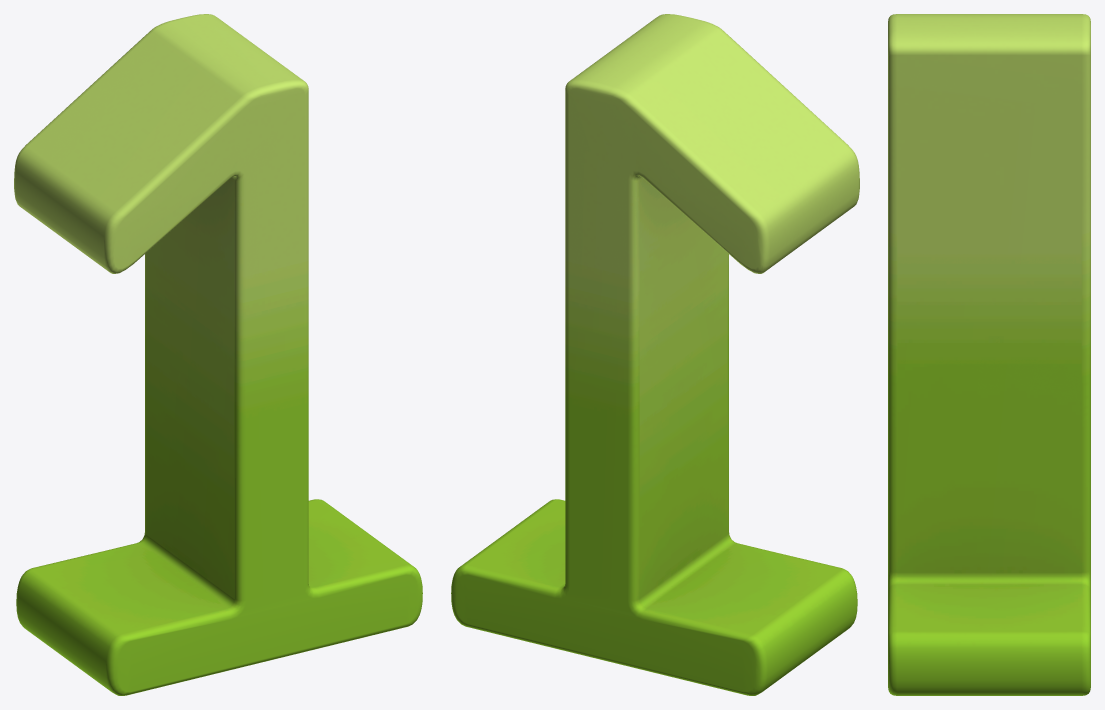
3 views of the same model, side by side, from view 1: azimuth 30°, elevation 25°; view 2: azimuth 150°, elevation 25°; view 3: azimuth 270°, elevation 25° (orthographic). The views are drawn at different scales.
Visible parts, largest first — view 1: node_id5; view 2: node_id5; view 3: node_id5.
Boxes of the visible parts, x1,y1,x2,y2 form: node_id5: (14, 14, 422, 695); node_id5: (451, 14, 859, 695); node_id5: (888, 14, 1090, 695).
Bounding box in the file's own units: 0.2962 × 0.512 × 0.1564.
Materials: 1 (1 with a texture image).
